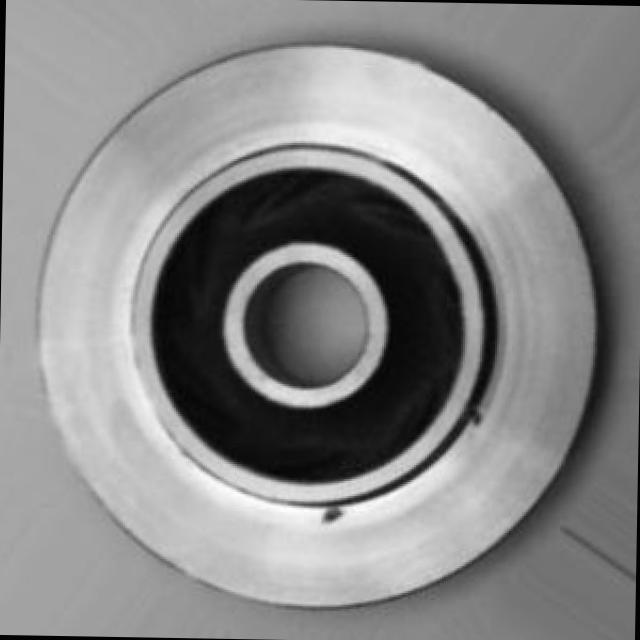Defect: (317, 500, 351, 530)
